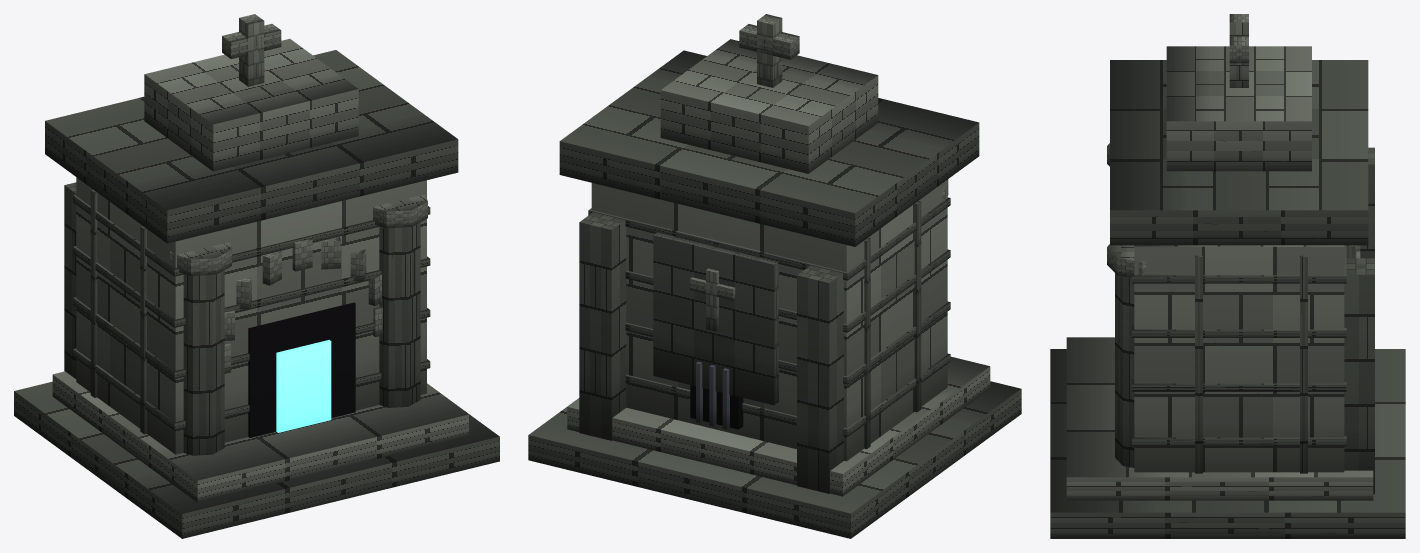
The model's file is crypt_entrance.glb.
3 views of the same model, side by side, from view 1: azimuth 30°, elevation 25°; view 2: azimuth 150°, elevation 25°; view 3: azimuth 270°, elevation 25° (orthographic). The views are drawn at different scales.
Parts seen in each view (by area): view 1: crypt_entrance; view 2: crypt_entrance; view 3: crypt_entrance.
Boxes of the visible parts, bbox=[...] form: crypt_entrance: bbox=[14, 14, 499, 538]; crypt_entrance: bbox=[528, 14, 1021, 538]; crypt_entrance: bbox=[1050, 14, 1405, 538].
Bounding box in the file's own units: 2.4 × 3 × 2.2.
1 material, 1 textured.
